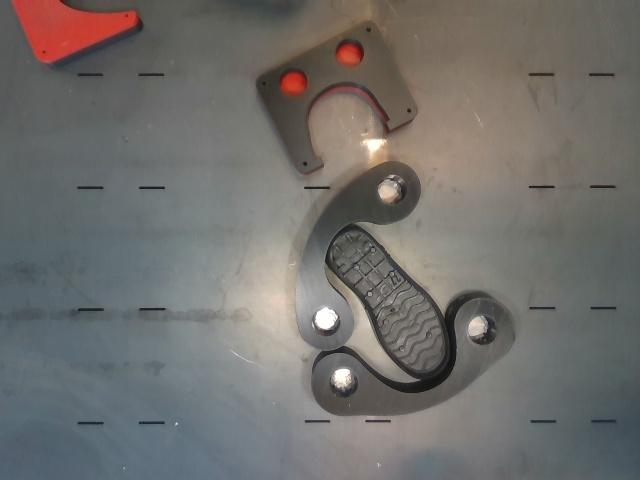shoes: (328, 230, 447, 377)
